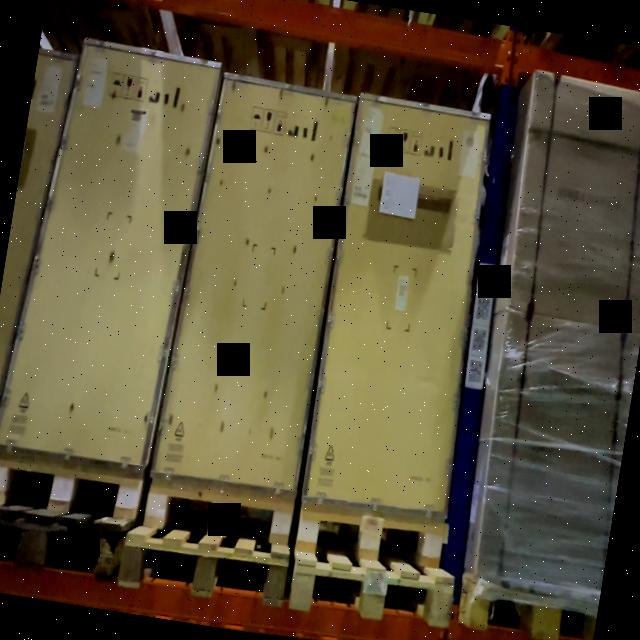box: (0, 42, 223, 470), (153, 76, 356, 495), (303, 93, 490, 516)
